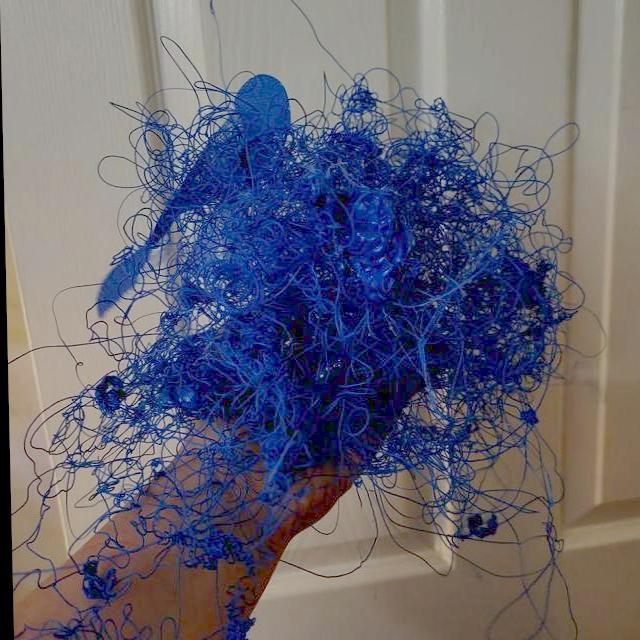spaghetti: (195, 295, 386, 466), (433, 138, 560, 293), (125, 105, 269, 226), (409, 286, 545, 413), (387, 422, 500, 554), (85, 373, 211, 487), (315, 71, 394, 225), (521, 421, 573, 603), (142, 498, 245, 575), (56, 549, 141, 640), (25, 407, 106, 485), (380, 129, 436, 221)
